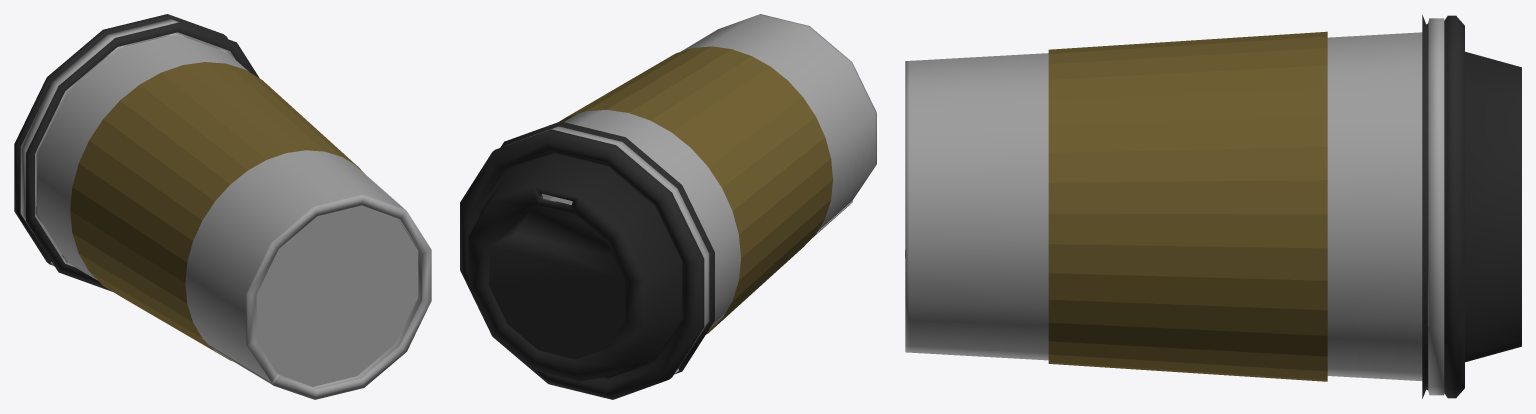
File: mug_02.fbx
3 renders of one model, left to right at view 1: azimuth 30°, elevation 25°; view 2: azimuth 150°, elevation 25°; view 3: azimuth 270°, elevation 25°, orthographic. The views are drawn at different scales.
Parts seen in each view (by area): view 1: Mug, Mug_Lid; view 2: Mug_Lid, Mug; view 3: Mug, Mug_Lid.
Boxes of the visible parts, <box> form: Mug: <box>20,19,431,399</box>; Mug_Lid: <box>14,14,259,291</box>; Mug_Lid: <box>460,121,714,399</box>; Mug: <box>503,14,876,374</box>; Mug: <box>905,18,1444,395</box>; Mug_Lid: <box>1422,15,1521,398</box>.
Size of the model in its own units: 23.97 by 23.97 by 39.07.
